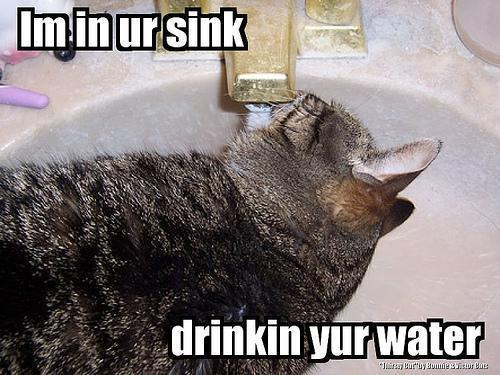Lavamanos: (0, 86, 455, 374)
Otro Obstaculo: (0, 20, 499, 374)
